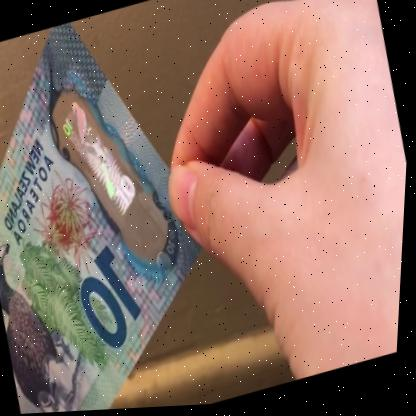10F: (52, 83, 147, 230)
